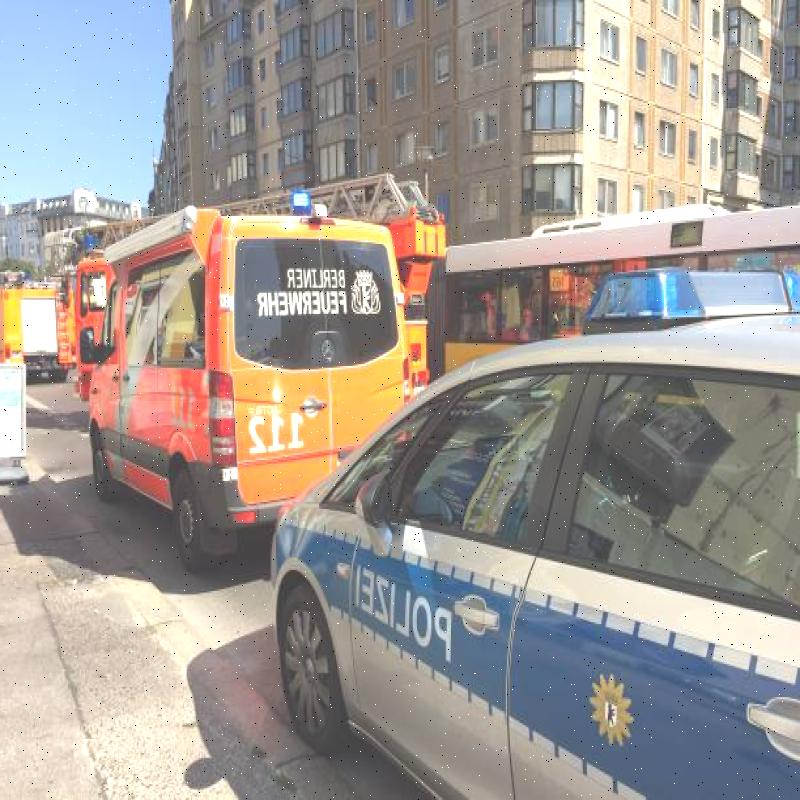AmbulanceSiren: (550, 253, 800, 384), (284, 185, 330, 220)
